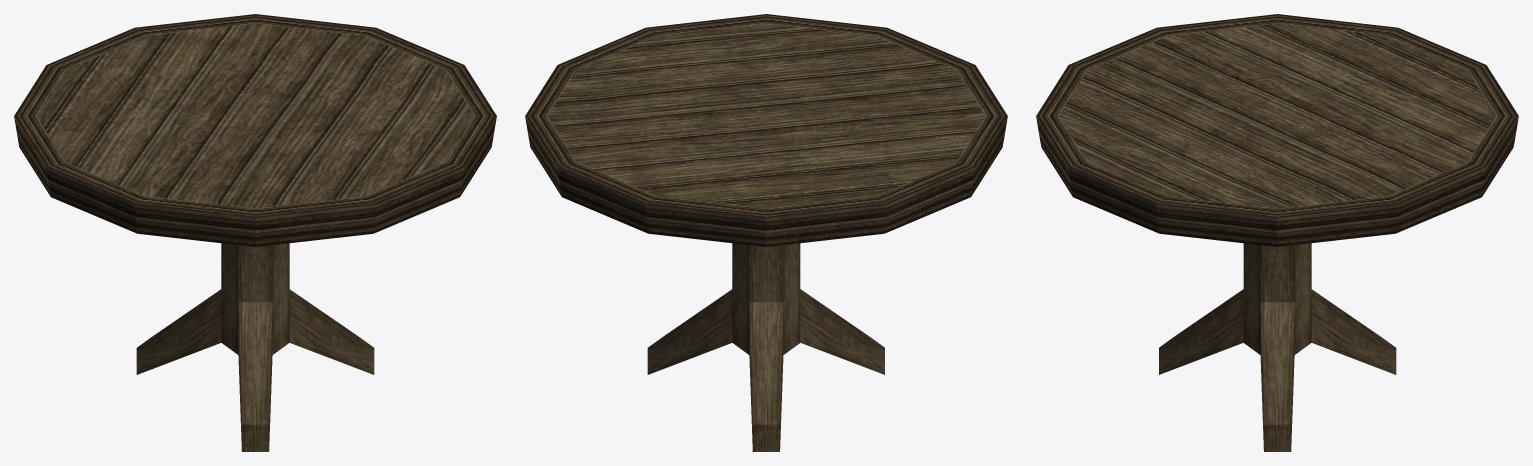
File: GS_TABLE_CIRCULAR_BROWN_01_KOZA.glb
The picture shows the model from 3 angles, left to right: view 1: azimuth 30°, elevation 25°; view 2: azimuth 150°, elevation 25°; view 3: azimuth 270°, elevation 25°; orthographic projection.
Parts seen in each view (by area): view 1: GS_TABLE_CIRCULAR_BROWN_01_KOZA; view 2: GS_TABLE_CIRCULAR_BROWN_01_KOZA; view 3: GS_TABLE_CIRCULAR_BROWN_01_KOZA.
Part boxes in pixels (x1=…): GS_TABLE_CIRCULAR_BROWN_01_KOZA: x1=14, y1=14, x2=496, y2=451; GS_TABLE_CIRCULAR_BROWN_01_KOZA: x1=525, y1=14, x2=1007, y2=451; GS_TABLE_CIRCULAR_BROWN_01_KOZA: x1=1036, y1=14, x2=1518, y2=451.
Bounding box in the file's own units: 1.4 × 0.9 × 1.4.
2 materials, 2 textured.
